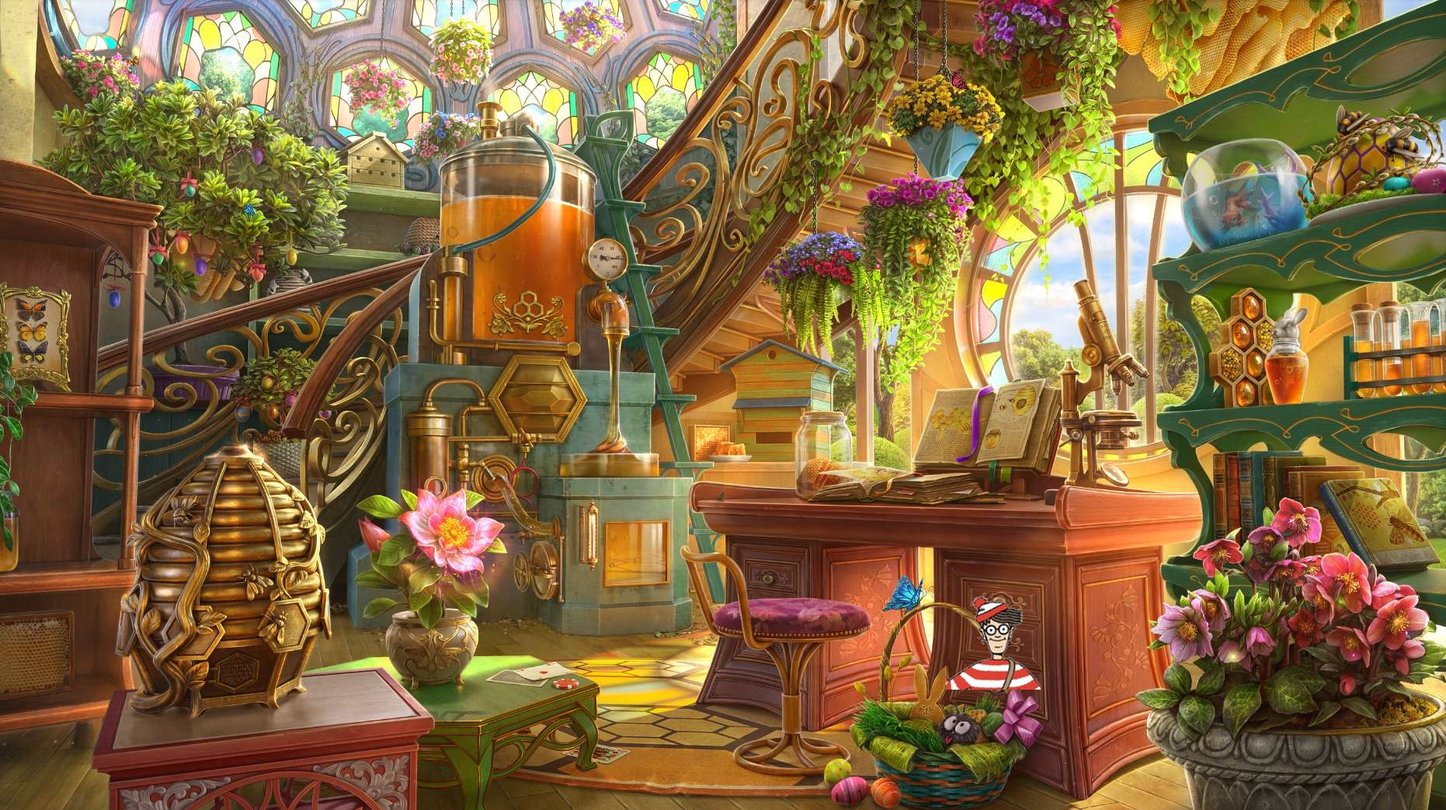waldo: (946, 595, 1041, 690)
